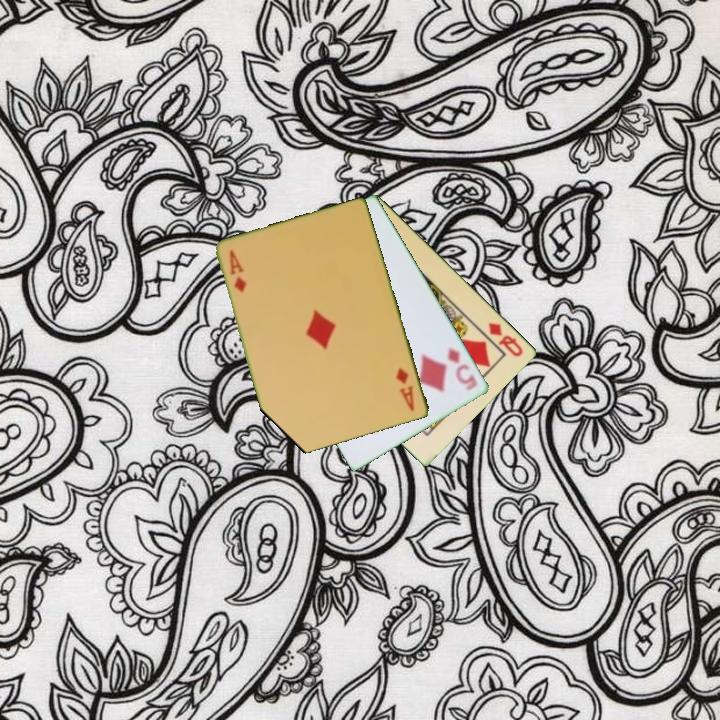5d: (445, 344, 481, 394)
Ad: (393, 364, 418, 414), (226, 246, 250, 296)
Qd: (485, 319, 526, 360)
